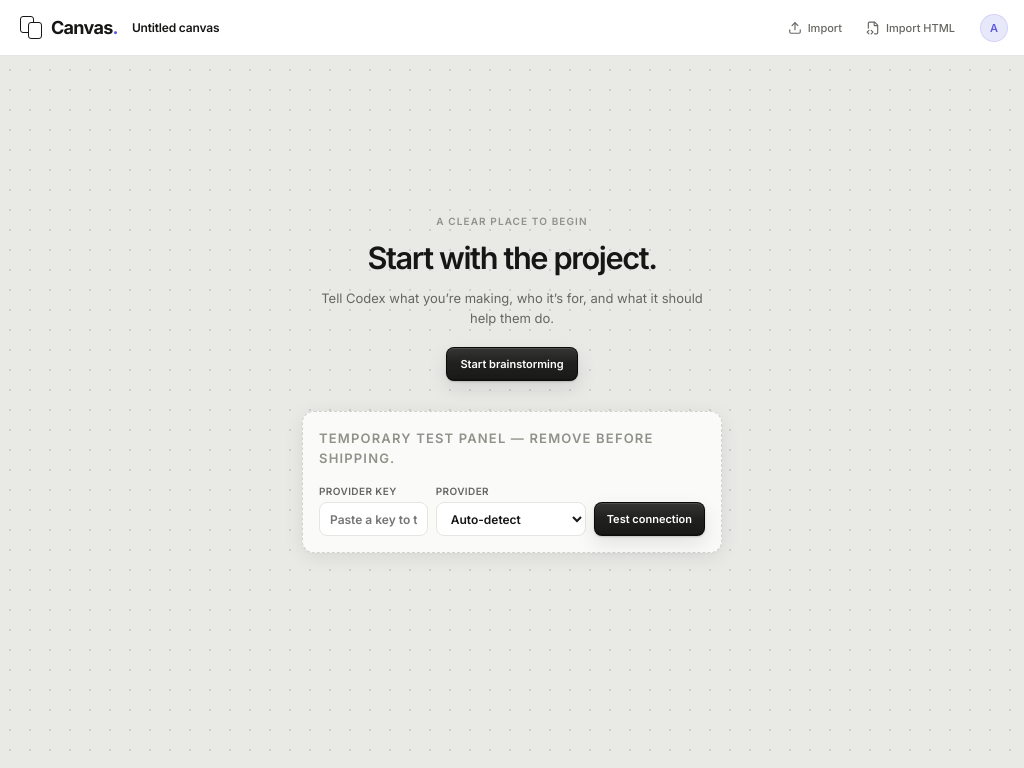
Test: CanvasSurface brainstorming entry › reports honestly when Export Code is pressed before any page exists
The width and height of the screenshot is (1024, 768).
Step 1. Click the button with test id "start-brainstorming" → (512, 364), box top-left (446, 347), bottom-right (578, 381)
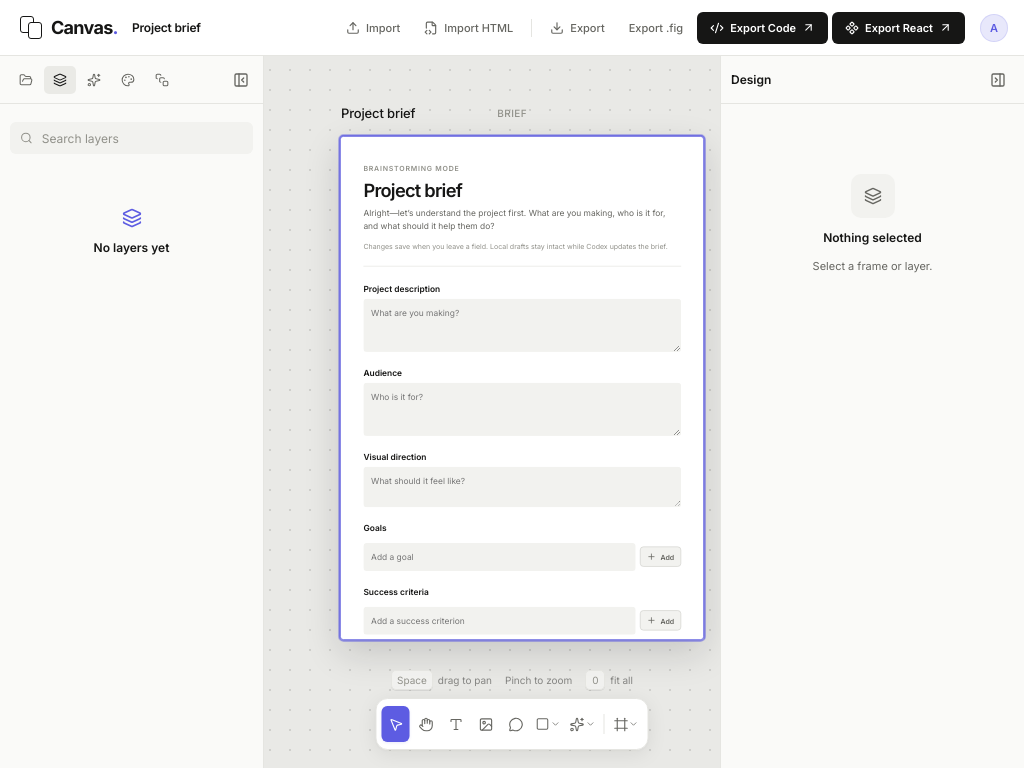
Step 2. Click the button with test id "export-code-button" → (763, 28), box top-left (697, 12), bottom-right (828, 44)
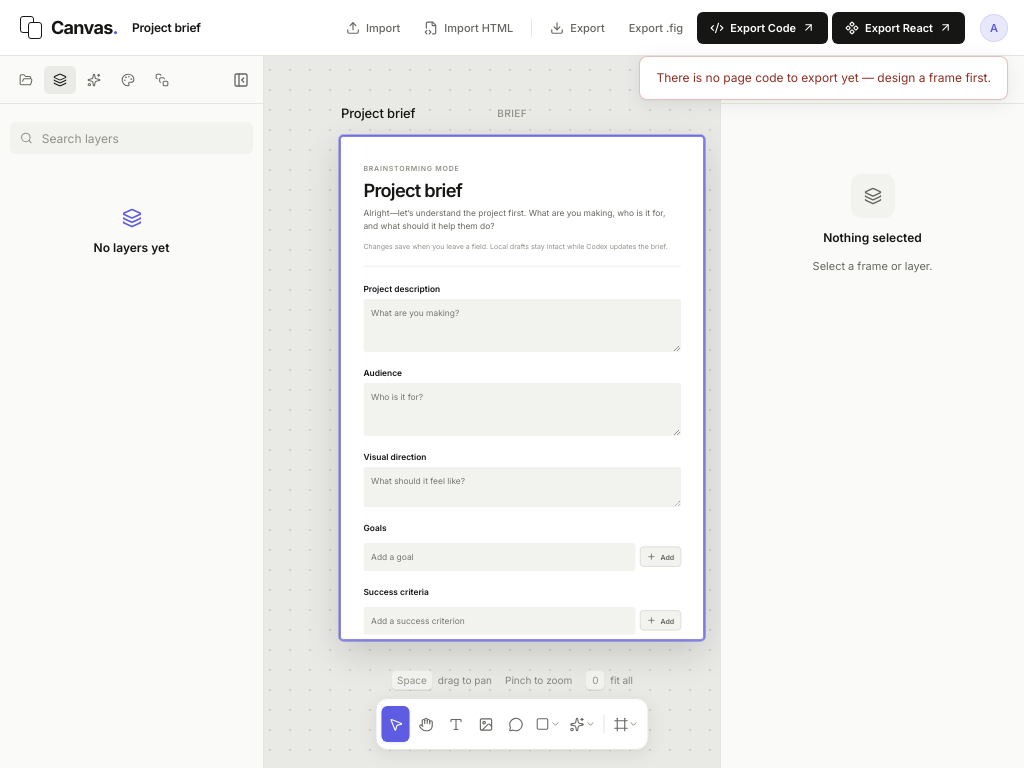
expect the message with test id "persistence-feedback" shows "no page code to export yet": met, box top-left (656, 70), bottom-right (991, 84)
